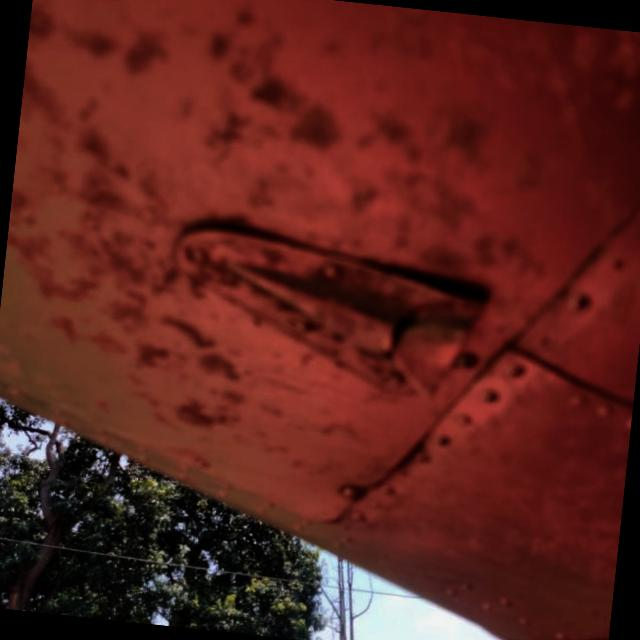crack: (366, 294, 446, 376)
